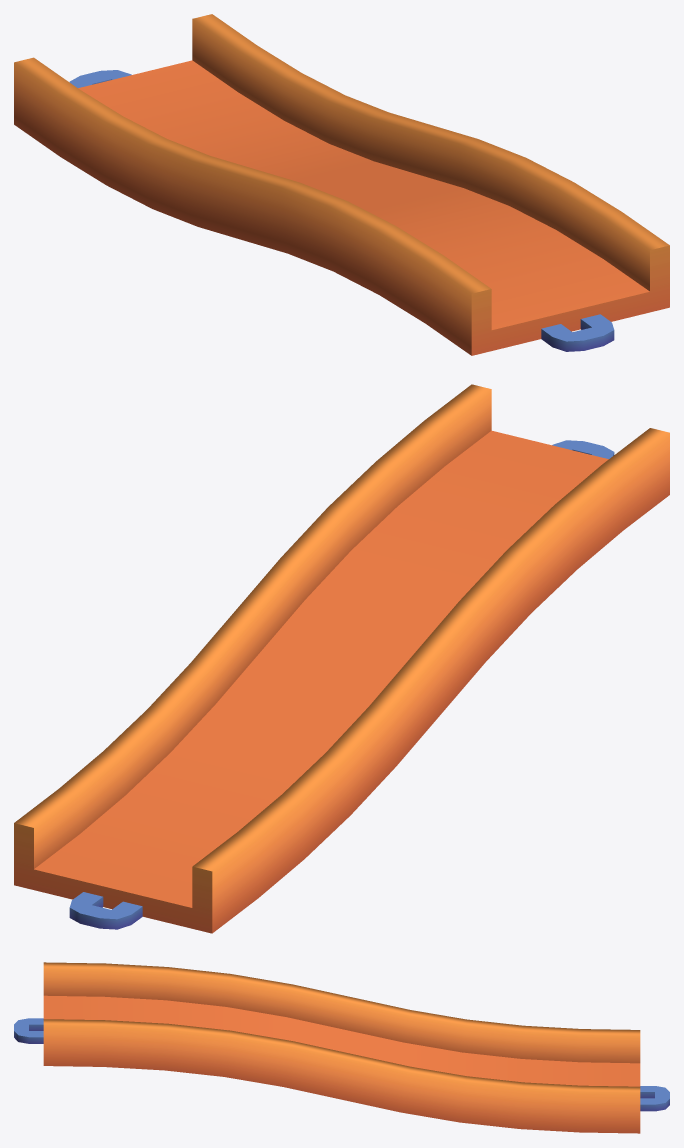
File: kenney-toy-car-track-narrow-straight-hill-complete-half.glb
3 renders of one model, top to bottom at view 1: azimuth 30°, elevation 25°; view 2: azimuth 150°, elevation 25°; view 3: azimuth 270°, elevation 25°, orthographic. The views are drawn at different scales.
Visible parts, largest first — view 1: track-narrow-straight-hill-complete-half; view 2: track-narrow-straight-hill-complete-half; view 3: track-narrow-straight-hill-complete-half.
Boxes of the visible parts, box(x1,y1,x2,y2) form: track-narrow-straight-hill-complete-half: box(14, 14, 669, 355); track-narrow-straight-hill-complete-half: box(14, 384, 669, 933); track-narrow-straight-hill-complete-half: box(14, 962, 669, 1133).
Bounding box in the file's own units: 1 × 0.7998 × 4.4.
1 material, 1 textured.
